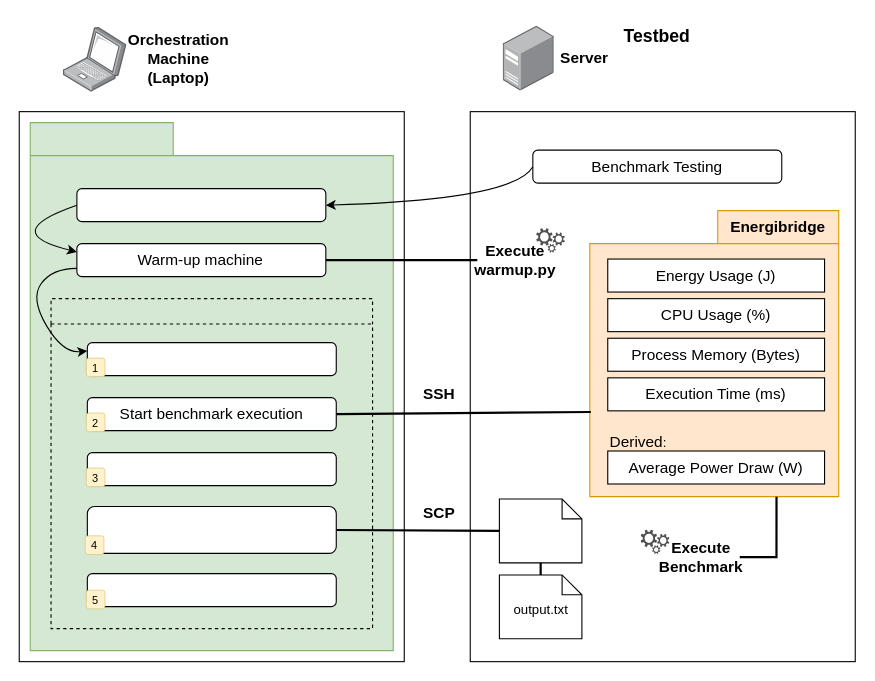
The diagram is 875 pixels wide and 681 high, and some of its shapes have lost their labels. The shapes that lost their labels are listed below. From the top down, each one's box as (x1, y1, x2, y2) in pixels, then its label:
(76, 188, 326, 222): Start experiment
(86, 342, 336, 376): Start run
(29, 122, 393, 651): ExperimentRunner
(86, 452, 336, 486): Wait for benchmark completion
(50, 298, 373, 629): Loop (for each randomized run)
(86, 505, 336, 553): Copy and parse run data into run_table.csv
(498, 498, 582, 563): energi.csv
(86, 573, 336, 607): Cool-down for 5 seconds
